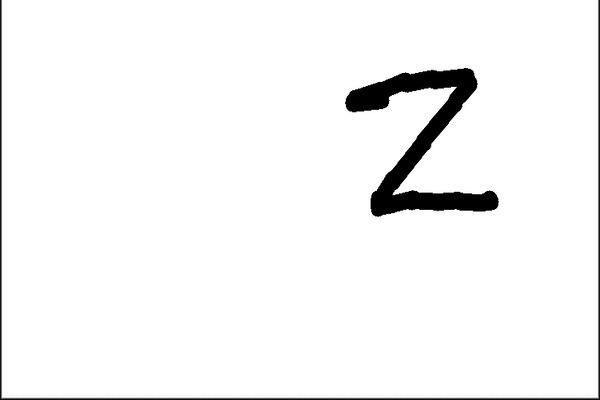Z: (339, 62, 508, 219)
